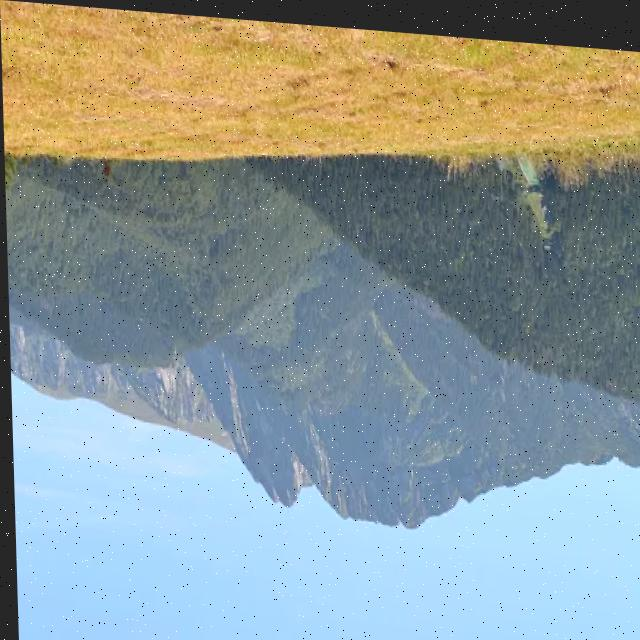Giewont: (242, 453, 330, 556)
Maly giewont: (138, 380, 215, 471)
